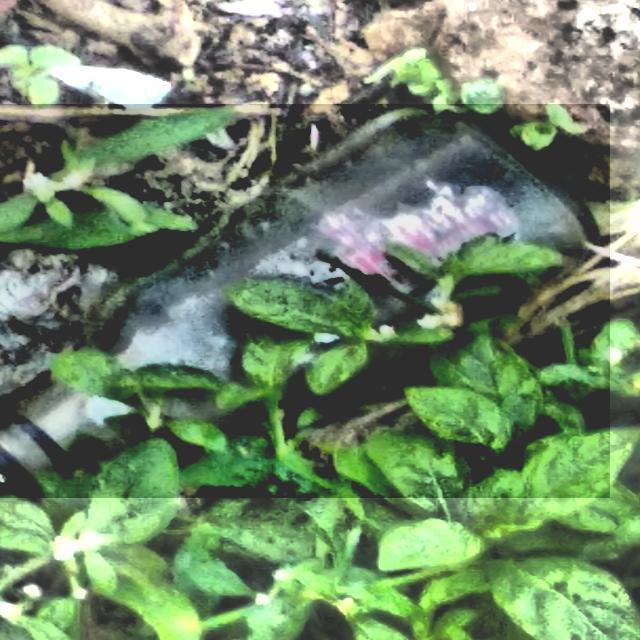anorganik: (0, 105, 610, 498)
